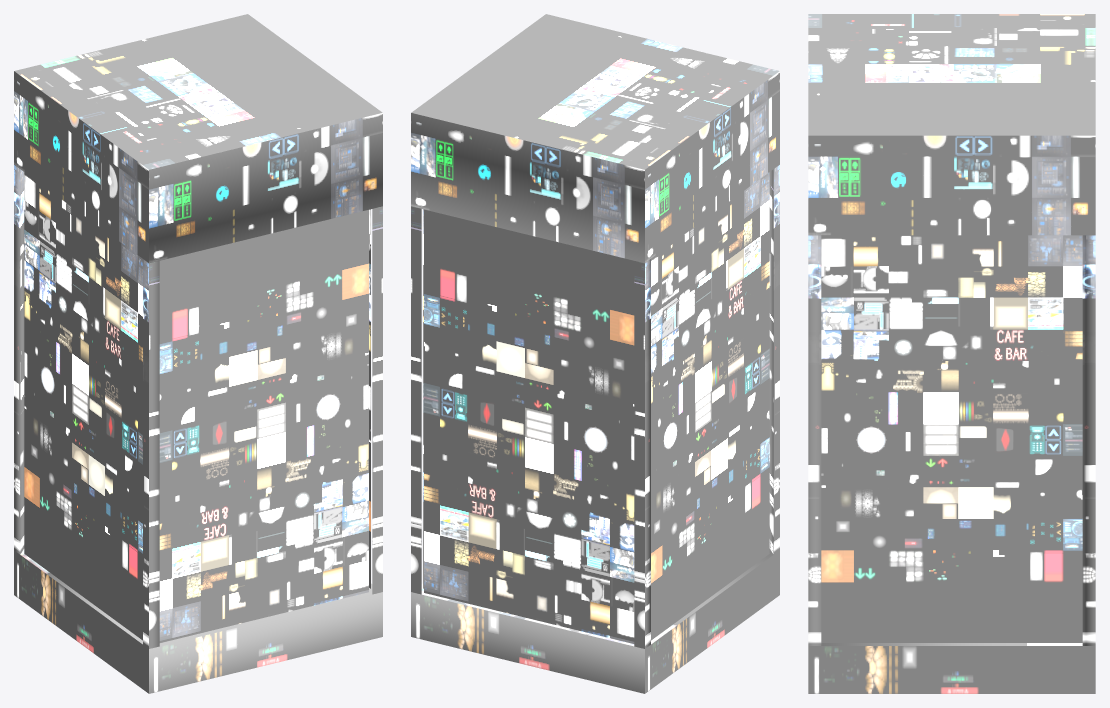
Rendered from SM_M_Commercial_Lighting_GardenLights_04_ATLAS.fbx.
3 views of the same model, side by side, from view 1: azimuth 30°, elevation 25°; view 2: azimuth 150°, elevation 25°; view 3: azimuth 270°, elevation 25° (orthographic). The views are drawn at different scales.
Visible parts, largest first — view 1: SM_M_Commercial_Lighting_GardenLights_04_ATLAS; view 2: SM_M_Commercial_Lighting_GardenLights_04_ATLAS; view 3: SM_M_Commercial_Lighting_GardenLights_04_ATLAS.
Boxes of the visible parts, left/top/right/bottom form: SM_M_Commercial_Lighting_GardenLights_04_ATLAS: left=14, top=14, right=382, bottom=693; SM_M_Commercial_Lighting_GardenLights_04_ATLAS: left=411, top=14, right=779, bottom=693; SM_M_Commercial_Lighting_GardenLights_04_ATLAS: left=808, top=14, right=1095, bottom=693.
Size of the model in its own units: 27.9 by 27.9 by 59.76.
